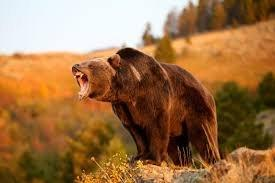bear: (72, 48, 222, 168)
